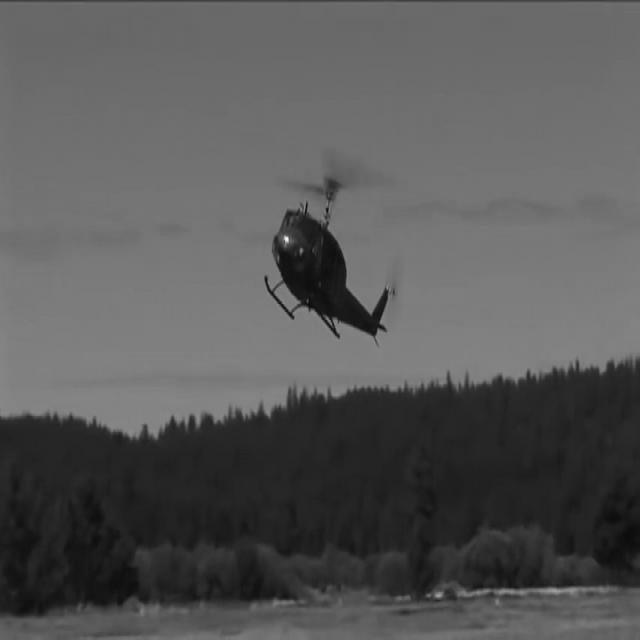helikopter: (261, 176, 413, 363)
